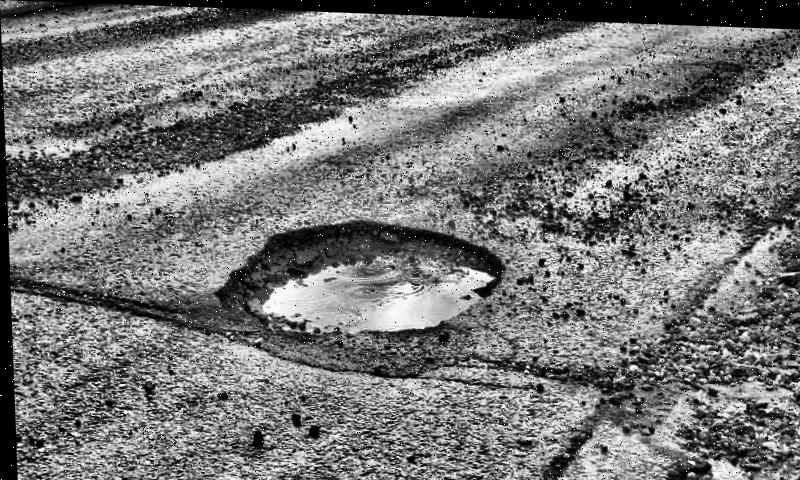pothole: (210, 208, 507, 336)
